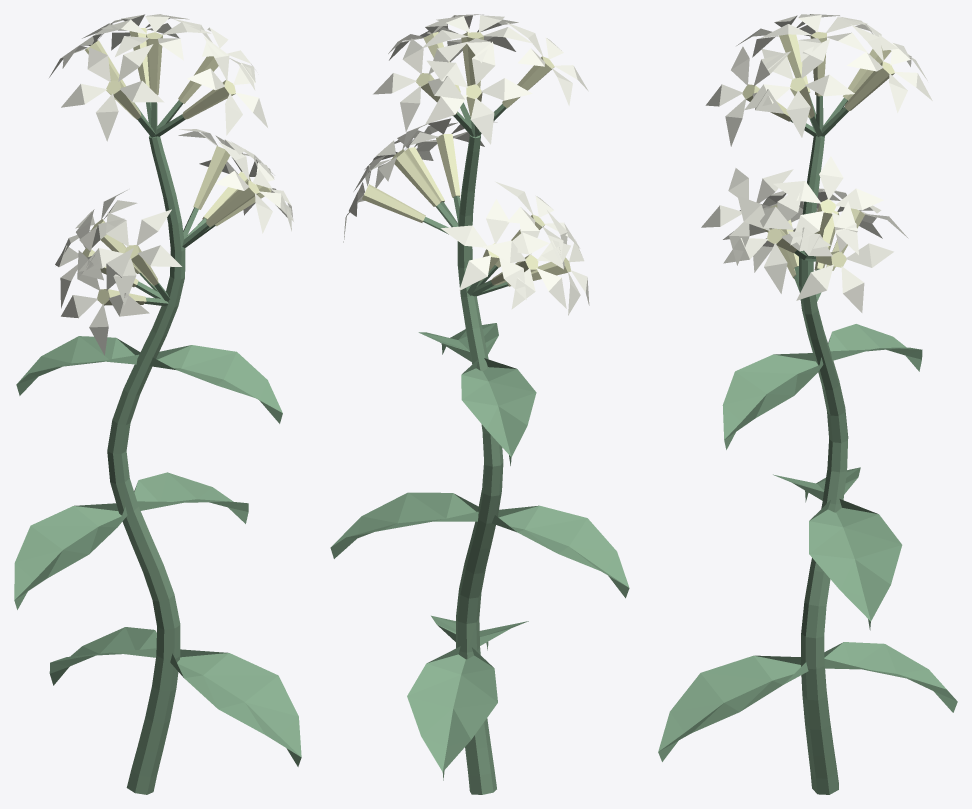
The model's file is night-jasmine.glb.
3 renders of one model, left to right at view 1: azimuth 30°, elevation 25°; view 2: azimuth 150°, elevation 25°; view 3: azimuth 270°, elevation 25°, orthographic.
Parts seen in each view (by area): view 1: night-jasmine; view 2: night-jasmine; view 3: night-jasmine.
Part boxes in pixels (<box>): night-jasmine: <box>14,14,301,794</box>; night-jasmine: <box>330,14,629,794</box>; night-jasmine: <box>658,14,957,794</box>.
Bounding box in the file's own units: 0.4253 × 1.15 × 0.4068.
